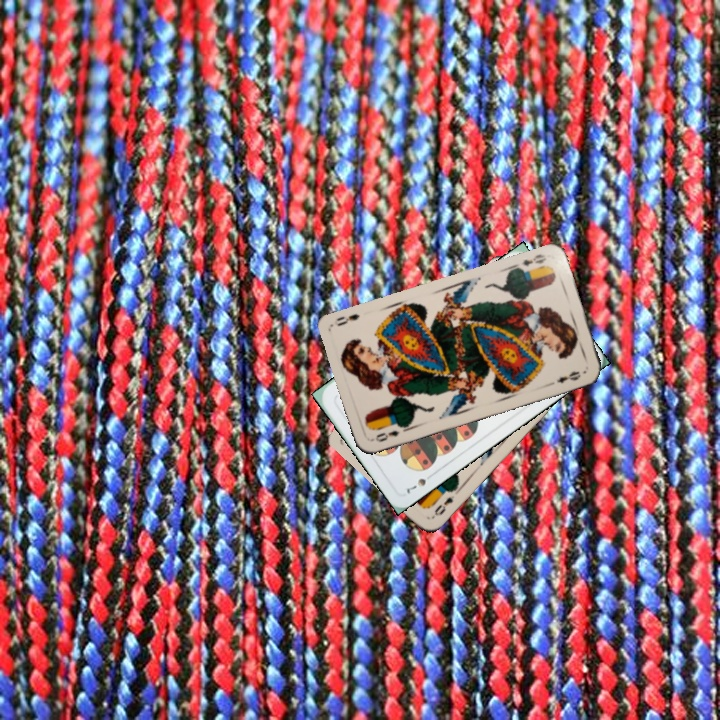EO: (511, 250, 549, 275), (430, 491, 457, 519), (371, 426, 402, 445)
S7: (402, 468, 437, 496)
